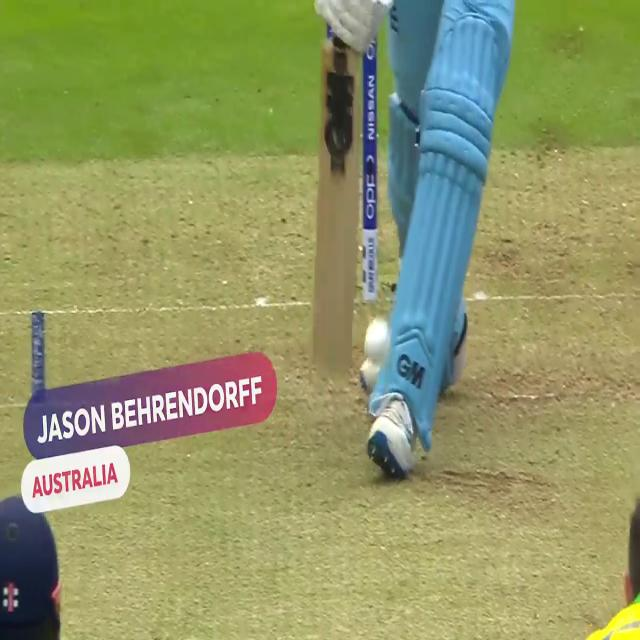ball: (360, 307, 390, 367)
